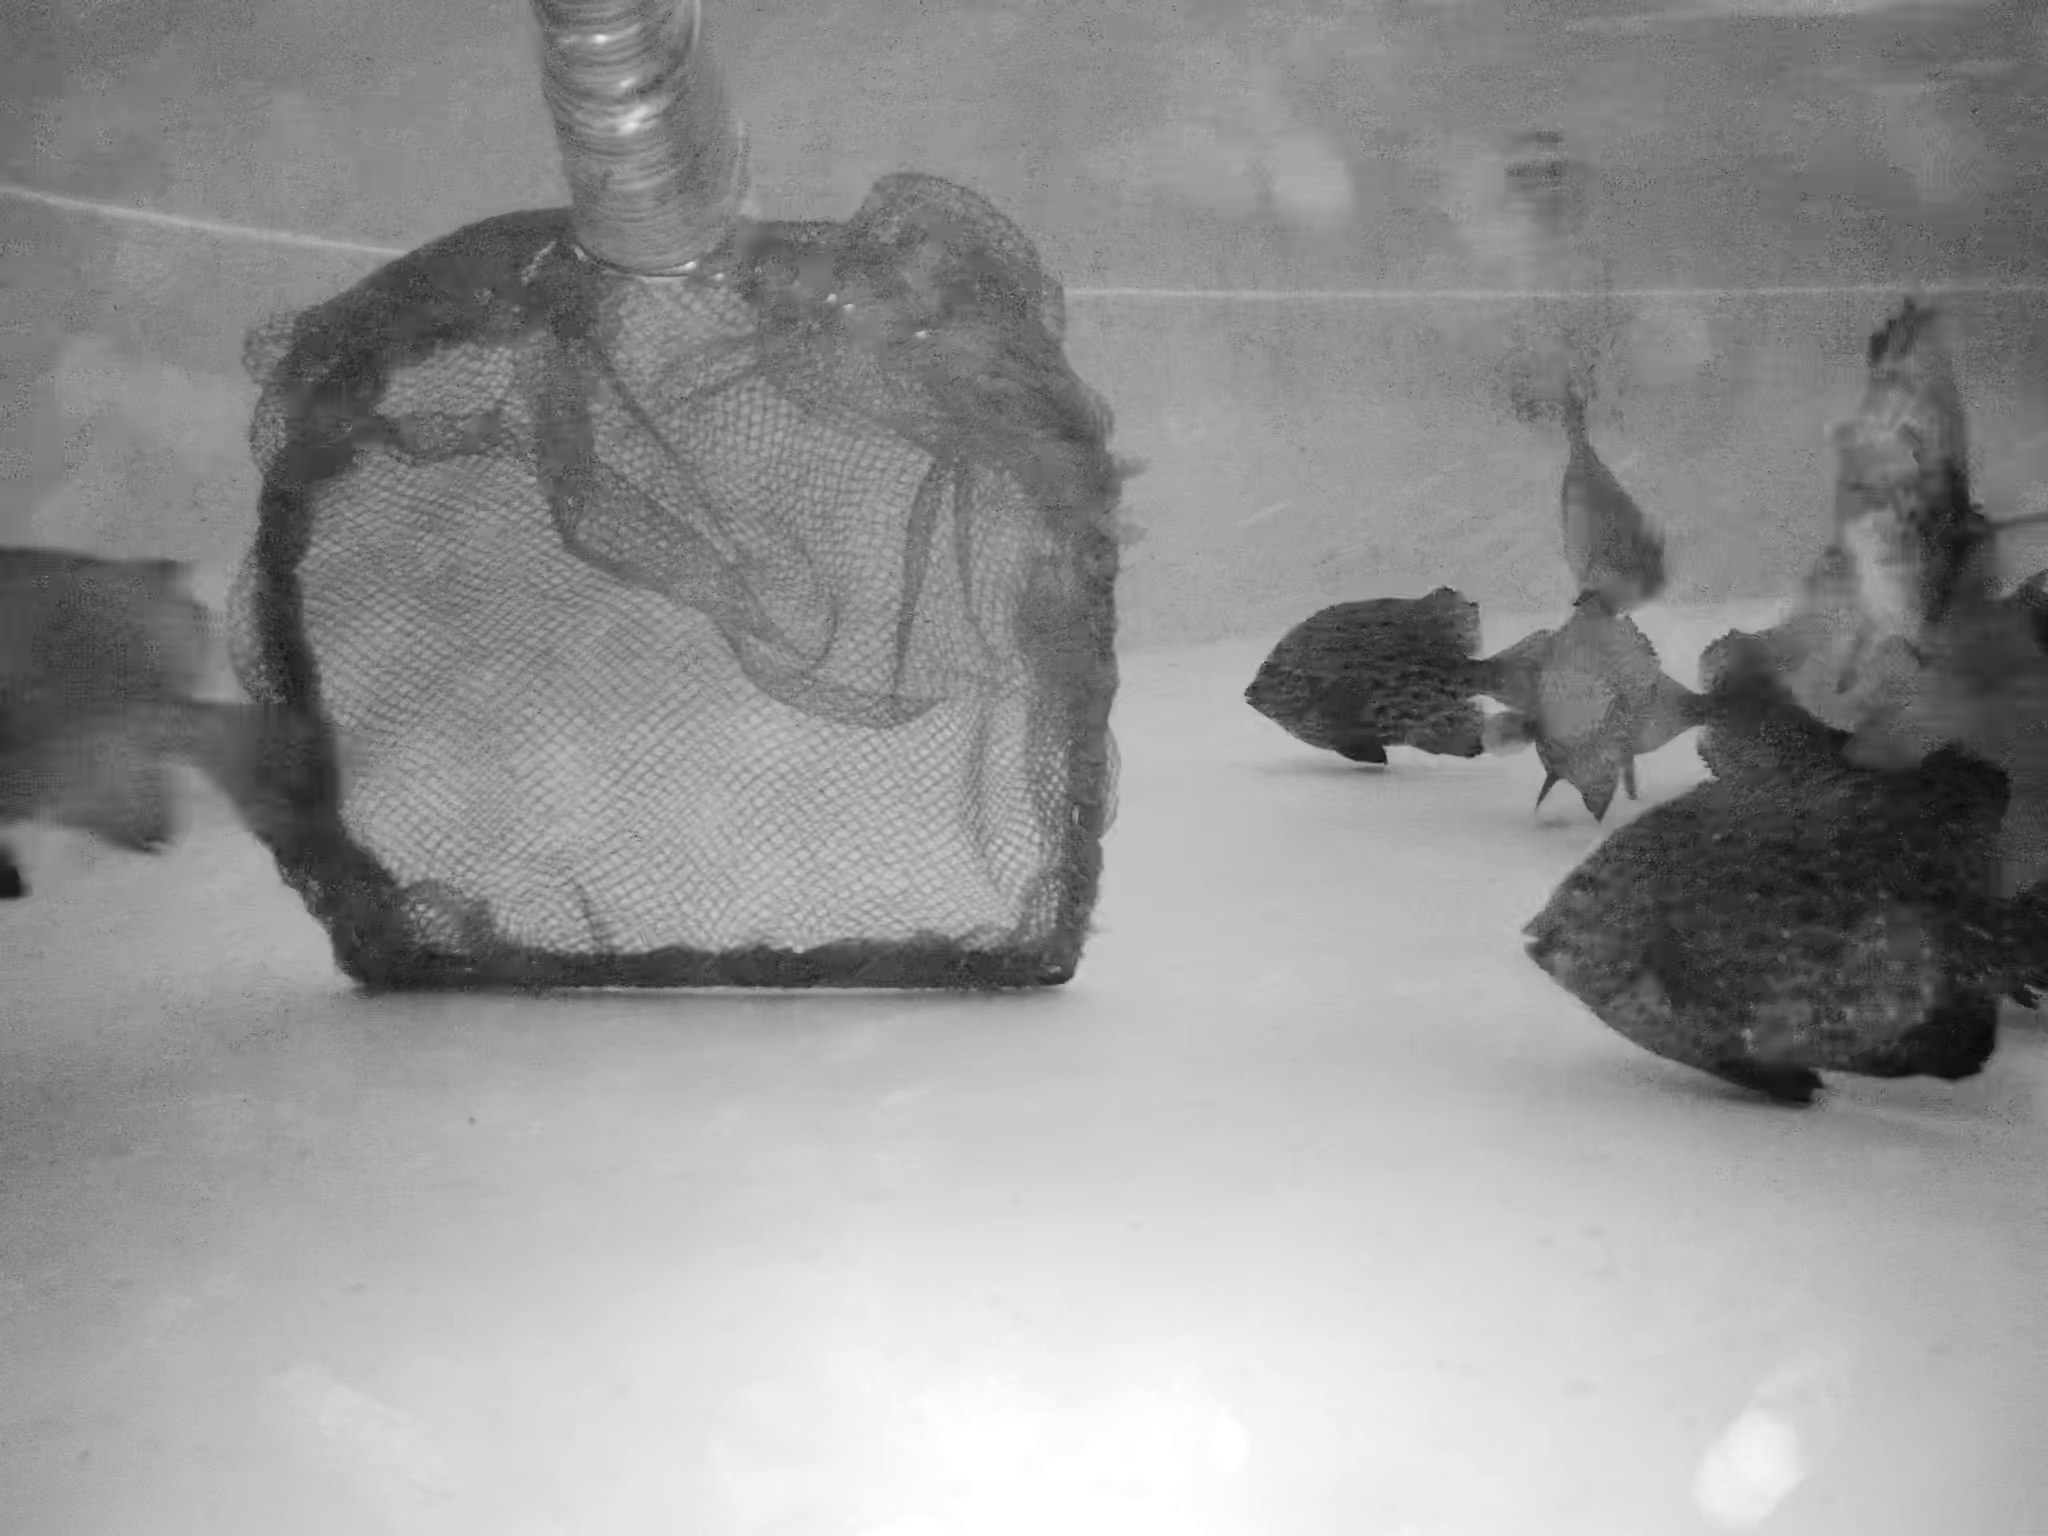fish: (1498, 776, 2048, 1084), (2, 537, 302, 916), (1198, 565, 1517, 792), (1813, 644, 2048, 857), (1837, 302, 1979, 624), (1556, 392, 1684, 666), (1509, 613, 1705, 781), (1706, 628, 1835, 820)
